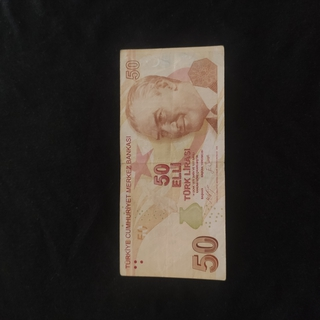50TLFront: (119, 45, 226, 281)
